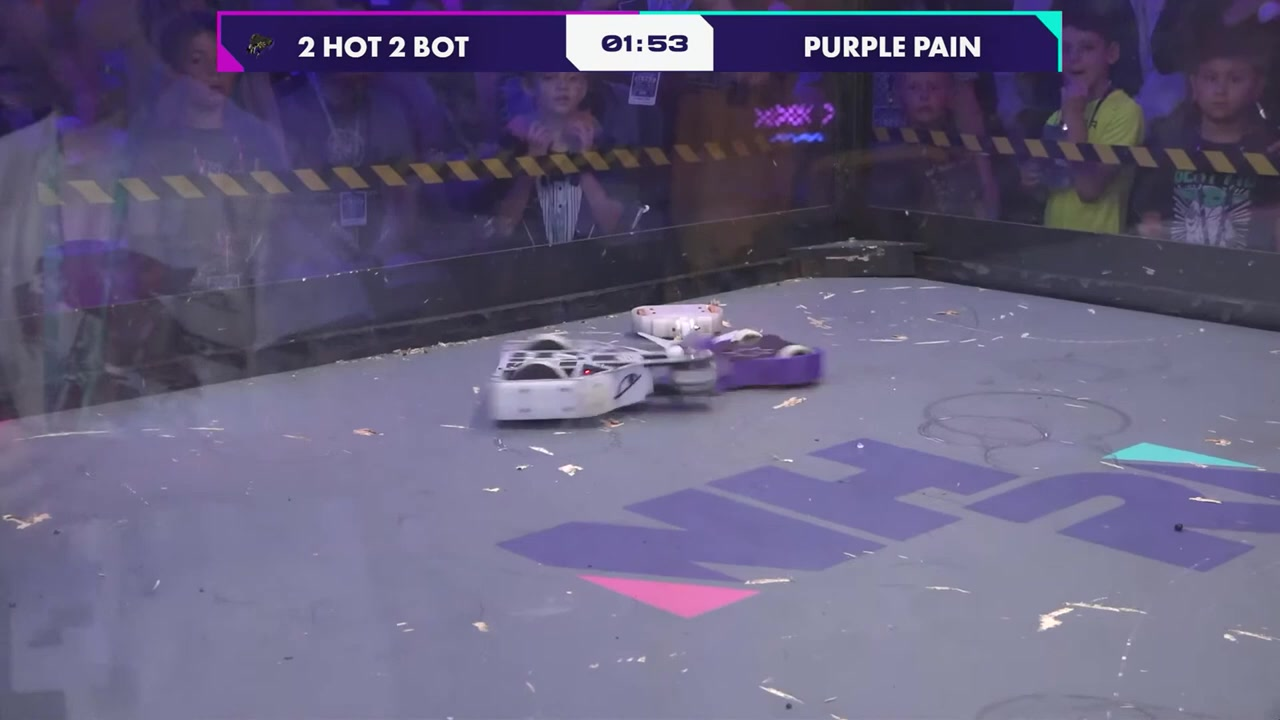combatbot: (489, 335, 649, 426), (713, 329, 824, 394)
minibot: (635, 302, 723, 341)
